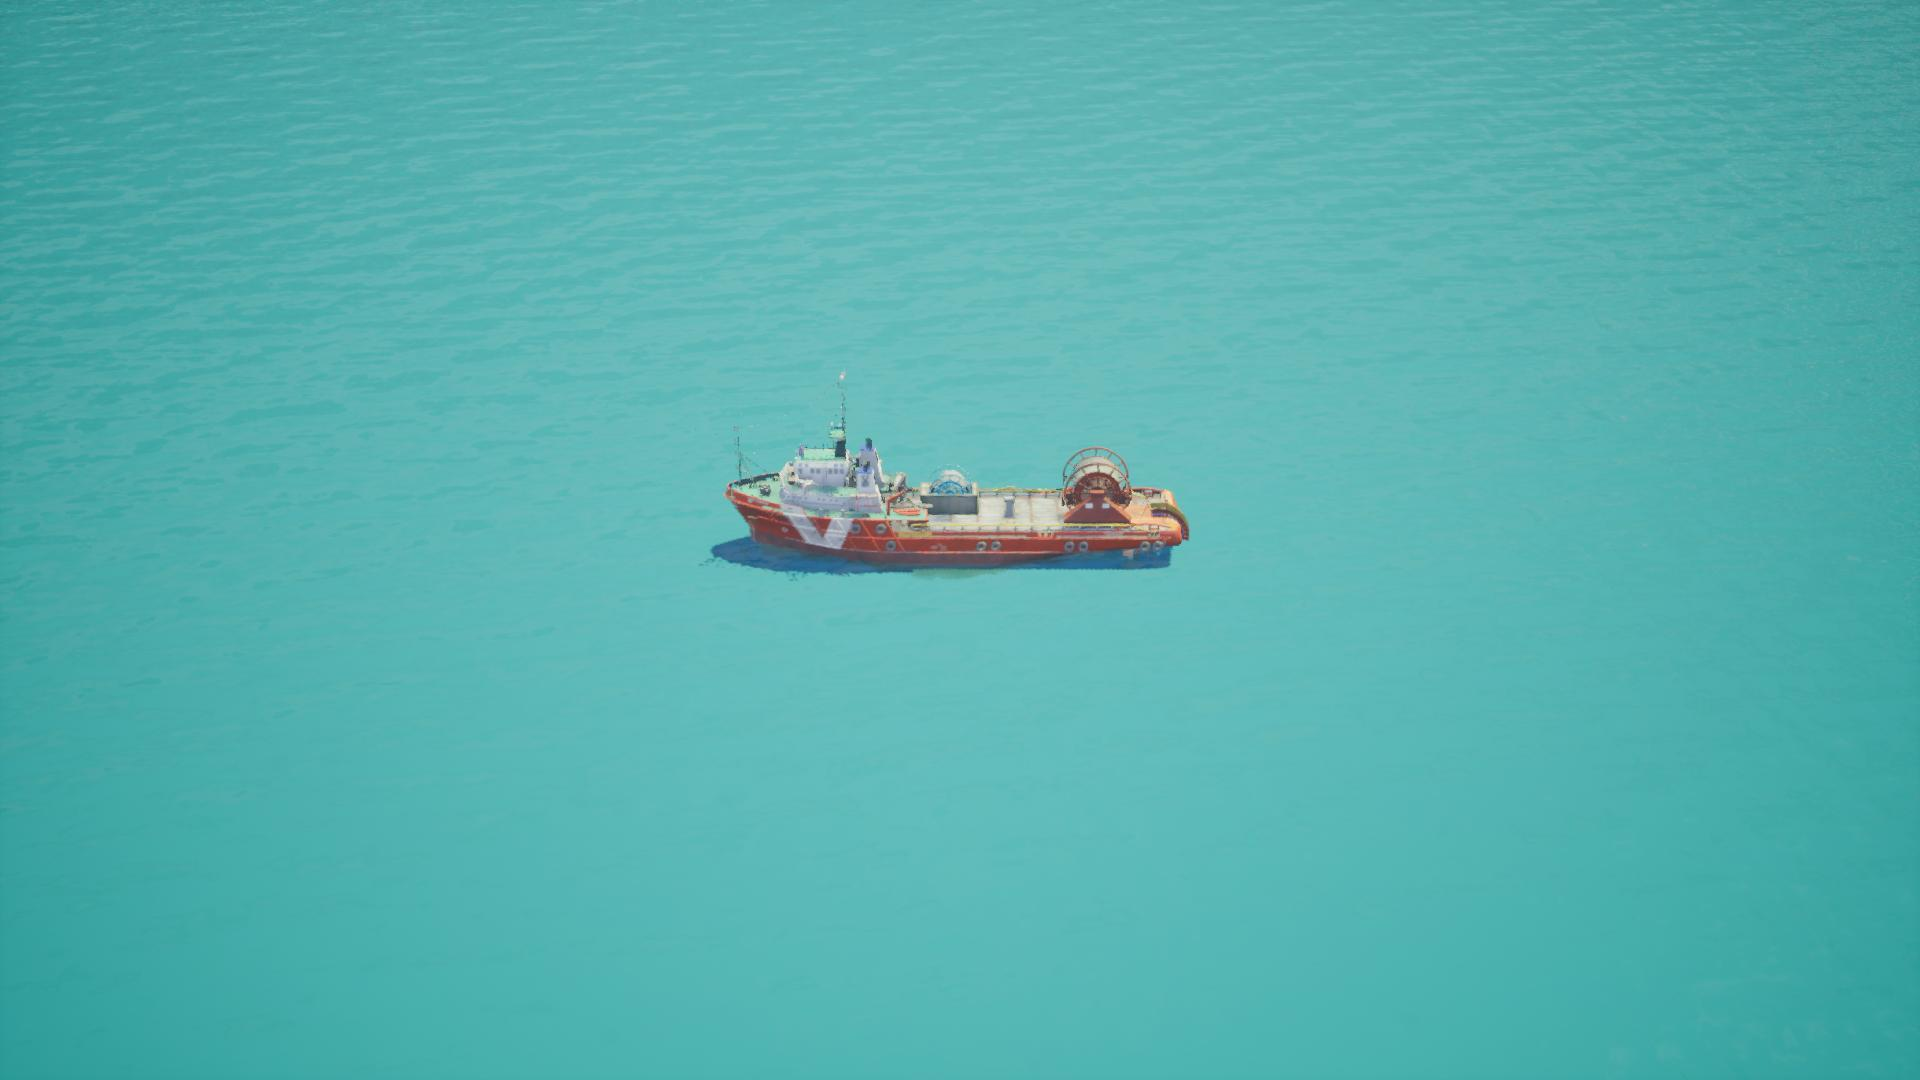Tug Boat: (716, 369, 1201, 576)
